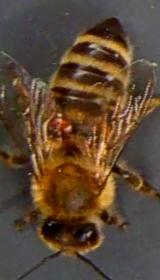varroa_mite: (44, 115, 74, 135)
